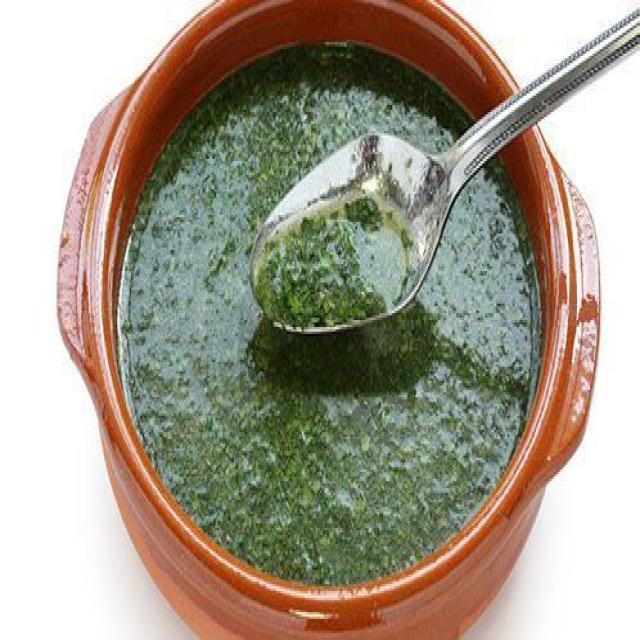Molokhya: (30, 0, 607, 640)
